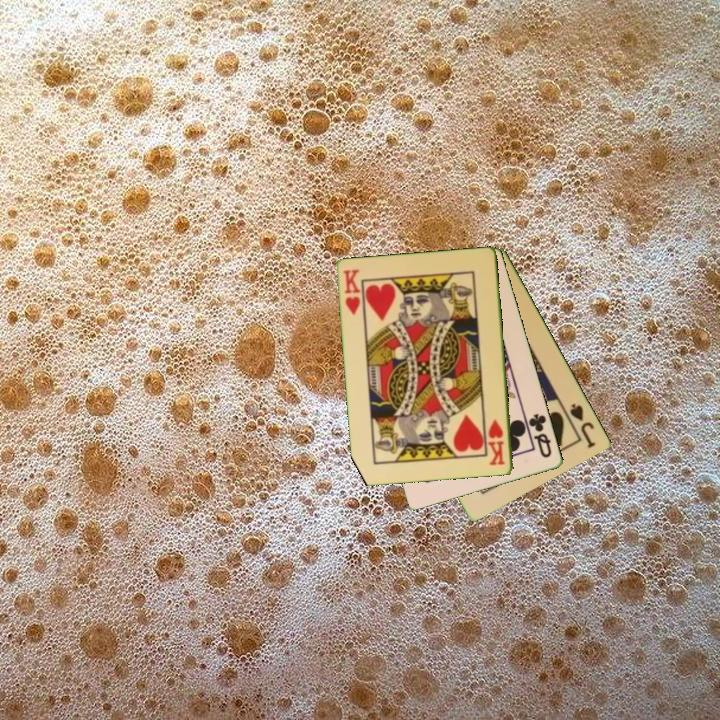Js: (566, 400, 599, 451)
Kh: (340, 266, 364, 318), (485, 416, 508, 468)
Qc: (525, 410, 555, 461)
